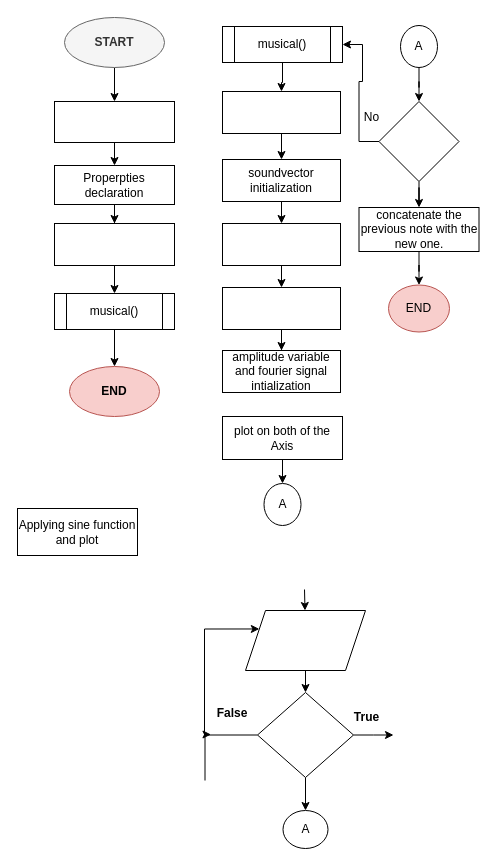
This 497x866 diagram has some shape labels left out. The centre of each missing label's shape, as x and y in pixels:
Compare the selection with "SINE": the point at 305,735
frequency intiialization: the point at 281,244
GUI implementation: the point at 114,121
If record button pressed: the point at 418,141
Properties object initialization: the point at 114,244
sample time initialization: the point at 281,112
time variable initialization.: the point at 281,308
